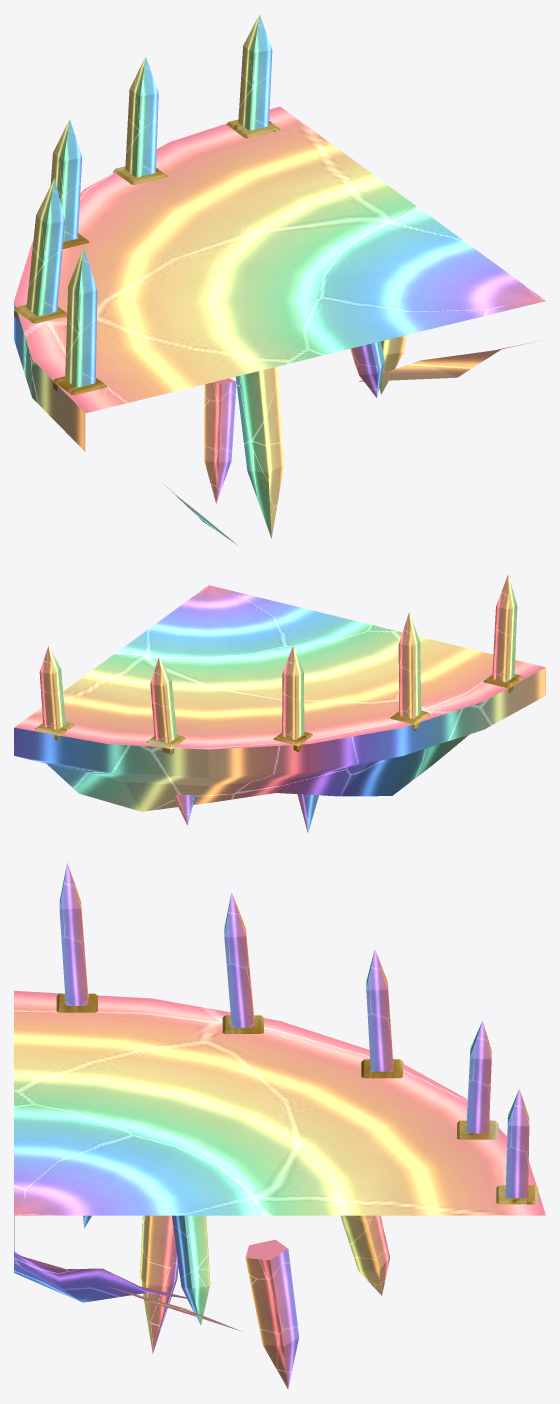
The model's file is bifrost_bridge_curve.glb.
3 views of the same model, one above another, from view 1: azimuth 30°, elevation 25°; view 2: azimuth 150°, elevation 25°; view 3: azimuth 270°, elevation 25° (orthographic). The views are drawn at different scales.
Visible parts, largest first — view 1: bifrost_bridge_curve; view 2: bifrost_bridge_curve; view 3: bifrost_bridge_curve.
Part boxes in pixels (<box>): bifrost_bridge_curve: <box>14,14,545,544</box>; bifrost_bridge_curve: <box>14,574,545,832</box>; bifrost_bridge_curve: <box>14,863,545,1388</box>.
Size of the model in its own units: 2 by 1.57 by 2.
Materials: 2 (2 with a texture image).
